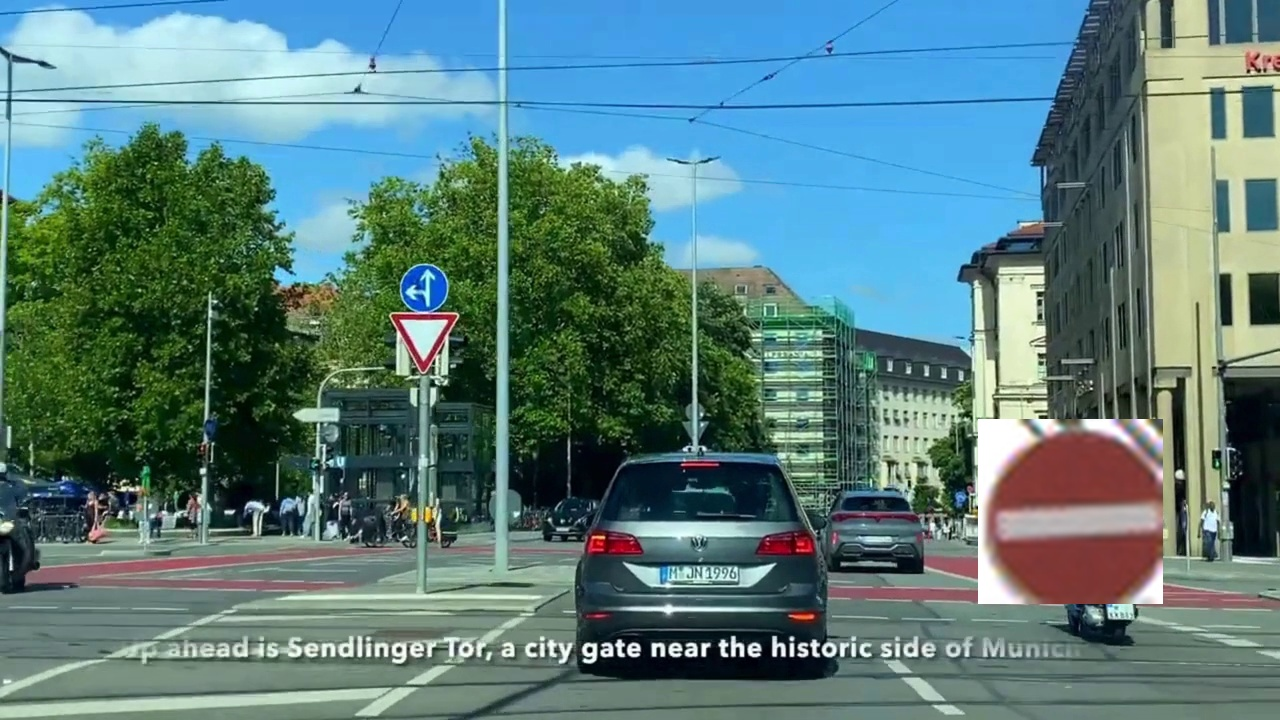No entry: (978, 419, 1163, 604)
